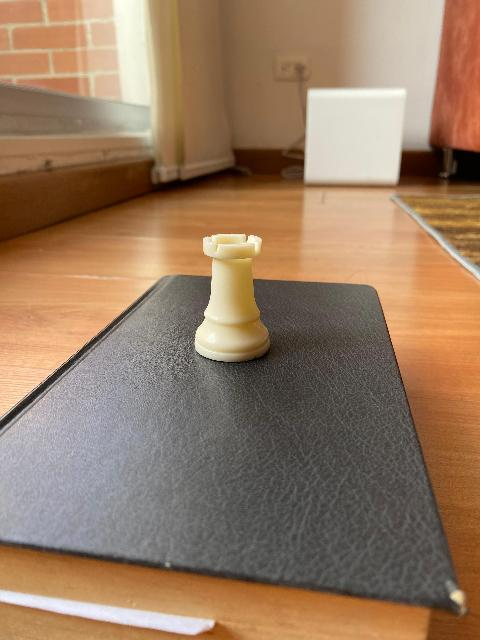white-rook: (194, 232, 270, 362)
